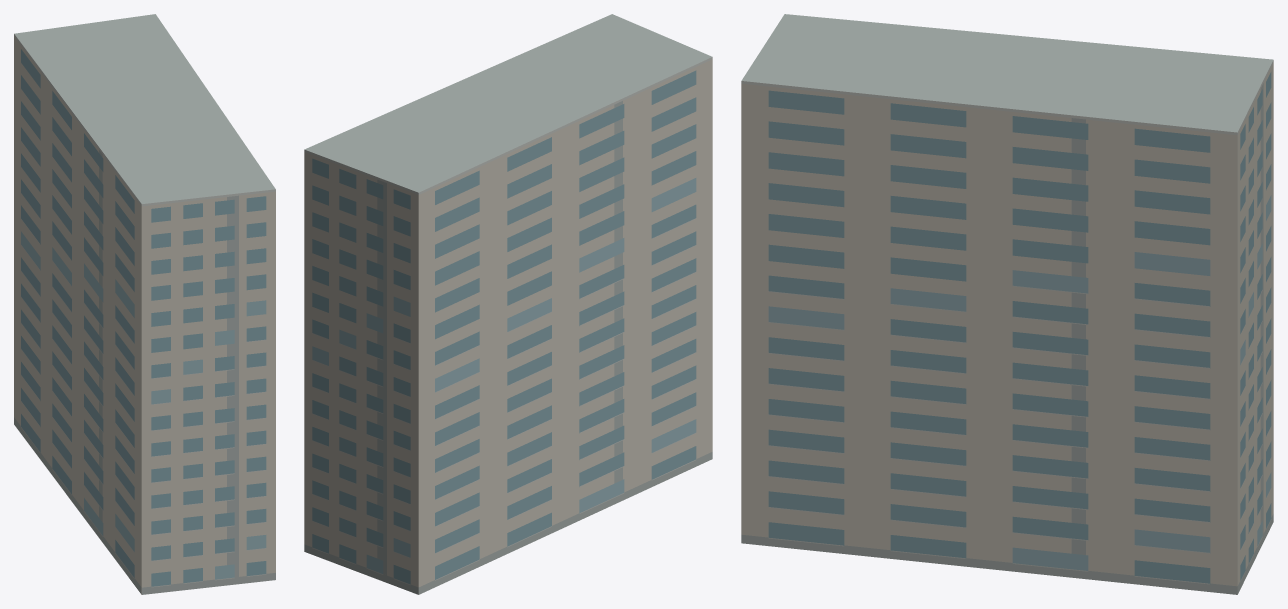
File: residential-eee23954-827e-4068-8598-41a9a83de339.glb
3 views of the same model, side by side, from view 1: azimuth 30°, elevation 25°; view 2: azimuth 150°, elevation 25°; view 3: azimuth 270°, elevation 25° (orthographic). The views are drawn at different scales.
Parts seen in each view (by area): view 1: residential-eee23954-827e-4068-8598-41a9a83de339.tmp; view 2: residential-eee23954-827e-4068-8598-41a9a83de339.tmp; view 3: residential-eee23954-827e-4068-8598-41a9a83de339.tmp.
Boxes of the visible parts, x1,y1,x2,y2 form: residential-eee23954-827e-4068-8598-41a9a83de339.tmp: [14, 14, 275, 594]; residential-eee23954-827e-4068-8598-41a9a83de339.tmp: [304, 14, 712, 594]; residential-eee23954-827e-4068-8598-41a9a83de339.tmp: [741, 14, 1273, 594].
Bounding box in the file's own units: 22.55 × 41 × 42.78.
